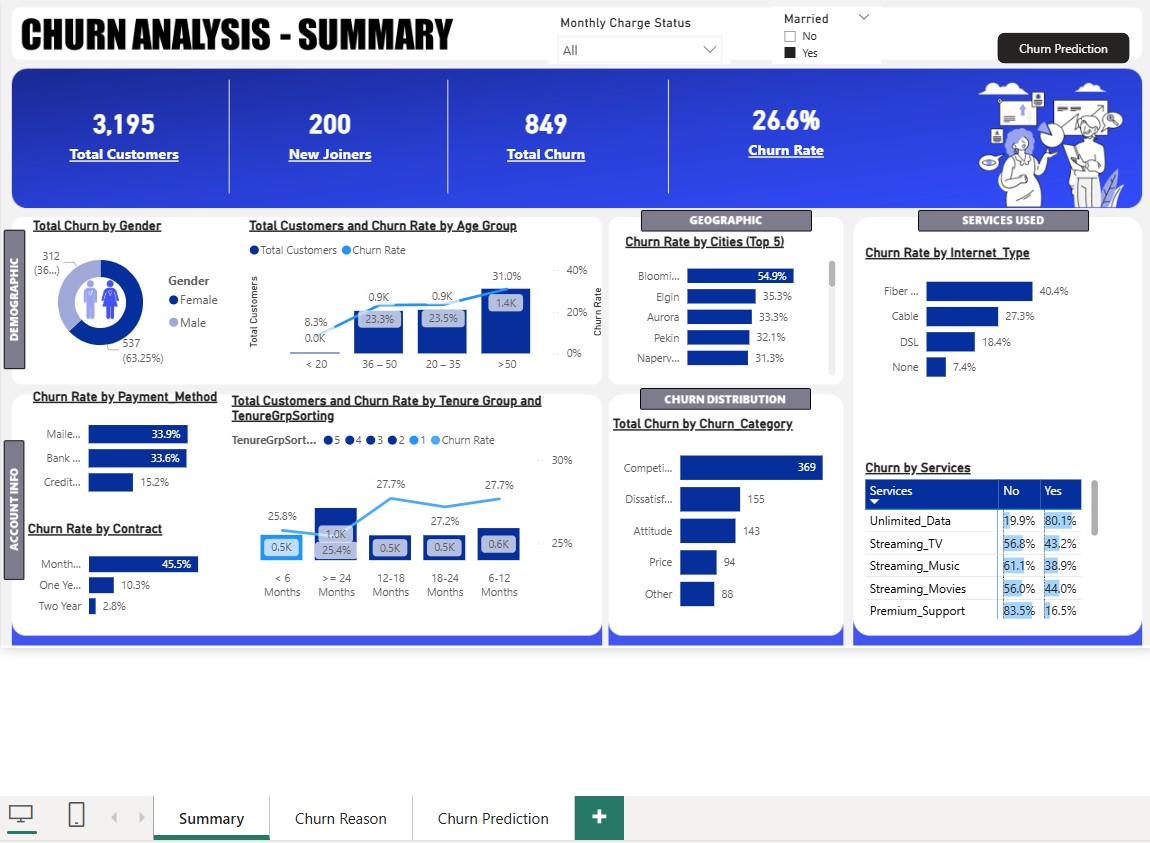

This screenshot's page, from the dashboard's own definition file:
{"tool":"powerbi","page":{"name":"Summary","canvas":[1280,720],"ordinal":0},"visuals":[{"type":"card","fields":{"Values":["tbl_Measures.Total Customers"]},"box":[32.5,71.2,210,151.2],"z":0},{"type":"card","fields":{"Values":["tbl_Measures.New Joiners"]},"box":[281.2,71.2,167.5,151.2],"z":1000},{"type":"card","fields":{"Values":["tbl_Measures.Total Churn"]},"box":[522.5,71.2,167.5,151.2],"z":2000},{"type":"card","fields":{"Values":["tbl_Measures.Churn Rate"]},"box":[788.3,66.2,167.5,150.6],"z":3000},{"type":"donutChart","fields":{"Category":["prod_churns.Gender"],"Y":["tbl_Measures.Total Churn"]},"box":[30,241.2,226.2,172.5],"z":4000},{"type":"lineStackedColumnComboChart","fields":{"Category":["mapping_AgeGrp.Age Group"],"Y":["tbl_Measures.Total Customers"],"Y2":["tbl_Measures.Churn Rate"]},"box":[271.2,241.2,403.8,181.2],"z":5000},{"type":"clusteredBarChart","fields":{"Category":["prod_churns.Payment_Method"],"Y":["tbl_Measures.Churn Rate"]},"box":[30,431.2,217.5,131.2],"z":6000},{"type":"clusteredBarChart","fields":{"Category":["prod_churns.Contract"],"Y":["tbl_Measures.Churn Rate"]},"box":[25,578.8,238.8,118.8],"z":7000},{"type":"lineStackedColumnComboChart","fields":{"Category":["mapping_TenureGrp.Tenure Group"],"Y":["tbl_Measures.Total Customers"],"Y2":["tbl_Measures.Churn Rate"],"Series":["mapping_TenureGrp.TenureGrpSorting"]},"box":[251.2,436.2,388.8,237.5],"z":8000},{"type":"clusteredBarChart","title":"Churn Rate by Cities (Top 5)","fields":{"Y":["tbl_Measures.Churn Rate"],"Category":["prod_churns.Cities"]},"box":[688.8,260,243.8,162.5],"z":9000},{"type":"clusteredBarChart","fields":{"Category":["prod_churns.Churn_Category"],"Y":["tbl_Measures.Total Churn"]},"box":[675,462.5,268.8,231.2],"z":10000},{"type":"image","box":[78.8,303.8,65,56.2],"z":11000},{"type":"clusteredBarChart","fields":{"Category":["prod_churns.Internet_Type"],"Y":["tbl_Measures.Churn Rate"]},"box":[955.8,272.7,239,163.6],"z":12000},{"type":"pivotTable","title":"Churn by Services","fields":{"Rows":["prod_Services.Services"],"Columns":["prod_Services.Status"],"Values":["Sum(prod_Services.Churn Status)"]},"box":[955.8,511.7,268.8,181.8],"z":13000},{"type":"slicer","fields":{"Values":["prod_churns.Monthly Charge Range"]},"box":[608.3,11.1,202.8,59.7],"z":14000},{"type":"slicer","fields":{"Values":["prod_churns.Married"]},"box":[856.9,6.9,120.8,63.9],"z":15000},{"type":"shape","box":[1110,21.2,146.2,35],"z":16000}]}

Visuals, with their boxes on the page's 1280x720 design canvas (x1, y1, x2, y2). These are canvas units, not pixel positions in the 1150x843 screenshot, which may show the page scaled, cropped or inside an application window:
card - tbl_Measures.Total Customers: detection(32, 71, 242, 222)
card - tbl_Measures.New Joiners: detection(281, 71, 449, 222)
card - tbl_Measures.Total Churn: detection(522, 71, 690, 222)
card - tbl_Measures.Churn Rate: detection(788, 66, 956, 217)
donutChart - prod_churns.Gender x tbl_Measures.Total Churn: detection(30, 241, 256, 414)
lineStackedColumnComboChart - mapping_AgeGrp.Age Group x tbl_Measures.Total Customers: detection(271, 241, 675, 422)
clusteredBarChart - prod_churns.Payment_Method x tbl_Measures.Churn Rate: detection(30, 431, 248, 562)
clusteredBarChart - prod_churns.Contract x tbl_Measures.Churn Rate: detection(25, 579, 264, 698)
lineStackedColumnComboChart - mapping_TenureGrp.Tenure Group x tbl_Measures.Total Customers: detection(251, 436, 640, 674)
"Churn Rate by Cities (Top 5)" clusteredBarChart: detection(689, 260, 933, 422)
clusteredBarChart - prod_churns.Churn_Category x tbl_Measures.Total Churn: detection(675, 462, 944, 694)
image: detection(79, 304, 144, 360)
clusteredBarChart - prod_churns.Internet_Type x tbl_Measures.Churn Rate: detection(956, 273, 1195, 436)
"Churn by Services" pivotTable: detection(956, 512, 1225, 694)
slicer - prod_churns.Monthly Charge Range: detection(608, 11, 811, 71)
slicer - prod_churns.Married: detection(857, 7, 978, 71)
shape: detection(1110, 21, 1256, 56)
